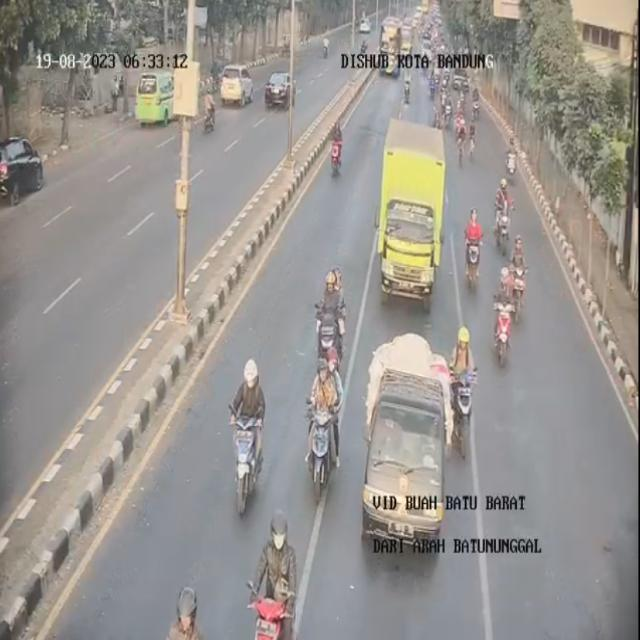bus: (381, 16, 401, 80)
motorcycle: (223, 353, 276, 511), (244, 513, 301, 640), (304, 344, 345, 490), (448, 316, 479, 442), (161, 570, 214, 640), (314, 260, 348, 368), (503, 234, 536, 316), (489, 268, 517, 364), (459, 196, 479, 282), (324, 113, 348, 180), (497, 169, 515, 244), (504, 138, 519, 175), (467, 84, 481, 119), (426, 70, 440, 102), (403, 70, 413, 107), (431, 106, 446, 130), (444, 96, 454, 130), (440, 76, 451, 96)
truck: (362, 332, 448, 548), (376, 114, 451, 304)
